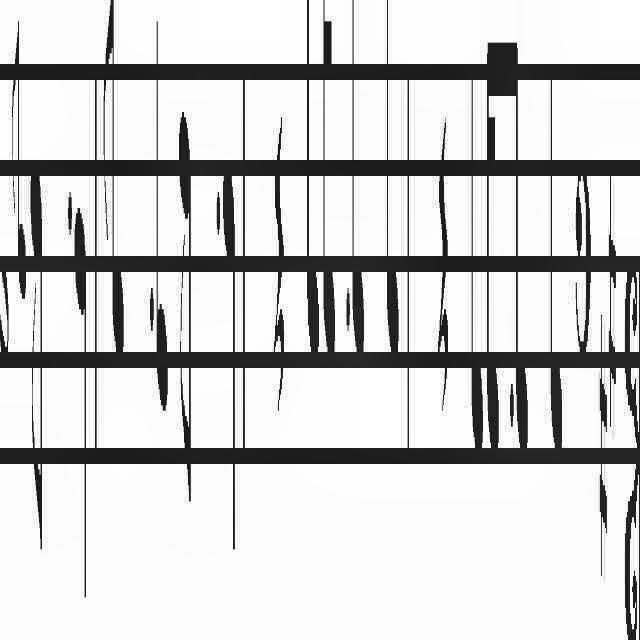Diez: (599, 309, 609, 587), (608, 170, 616, 446)
Eighth-note: (104, 1, 125, 380), (514, 23, 530, 469), (28, 140, 44, 568), (178, 99, 192, 518), (350, 0, 366, 356)
Half-note: (0, 0, 8, 372)
Quarter-note: (548, 42, 564, 484), (468, 50, 484, 472), (154, 0, 168, 432), (73, 198, 87, 614), (304, 1, 320, 363), (222, 156, 236, 564), (386, 0, 400, 372)
Quarter-rest: (274, 102, 286, 434), (438, 103, 450, 419)
Sixteenth-note: (486, 26, 502, 462), (322, 0, 337, 372)
